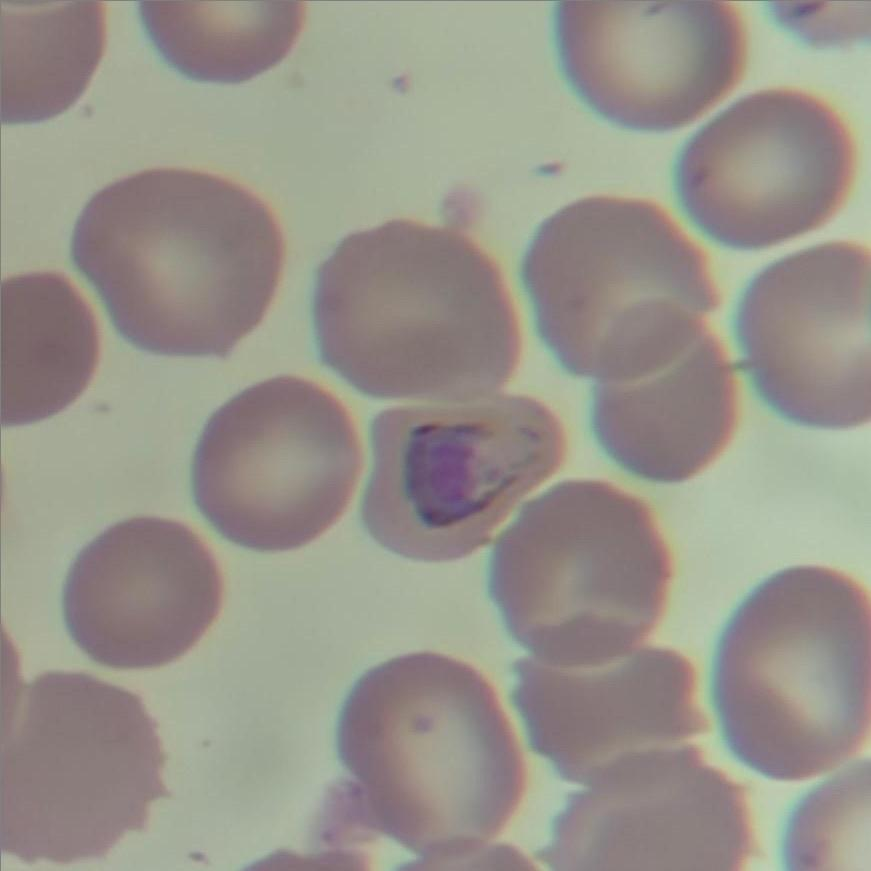Infected: (355, 395, 572, 561)
Uninfected: (68, 170, 282, 360), (520, 194, 718, 384), (320, 224, 527, 404), (338, 654, 520, 847), (490, 475, 668, 663), (712, 562, 864, 782), (512, 620, 703, 785), (5, 670, 167, 862), (195, 377, 360, 554), (668, 89, 851, 238), (595, 300, 738, 481), (550, 747, 756, 871), (555, 0, 744, 132), (62, 519, 230, 666), (739, 245, 871, 424), (135, 0, 303, 86), (0, 0, 111, 122)
